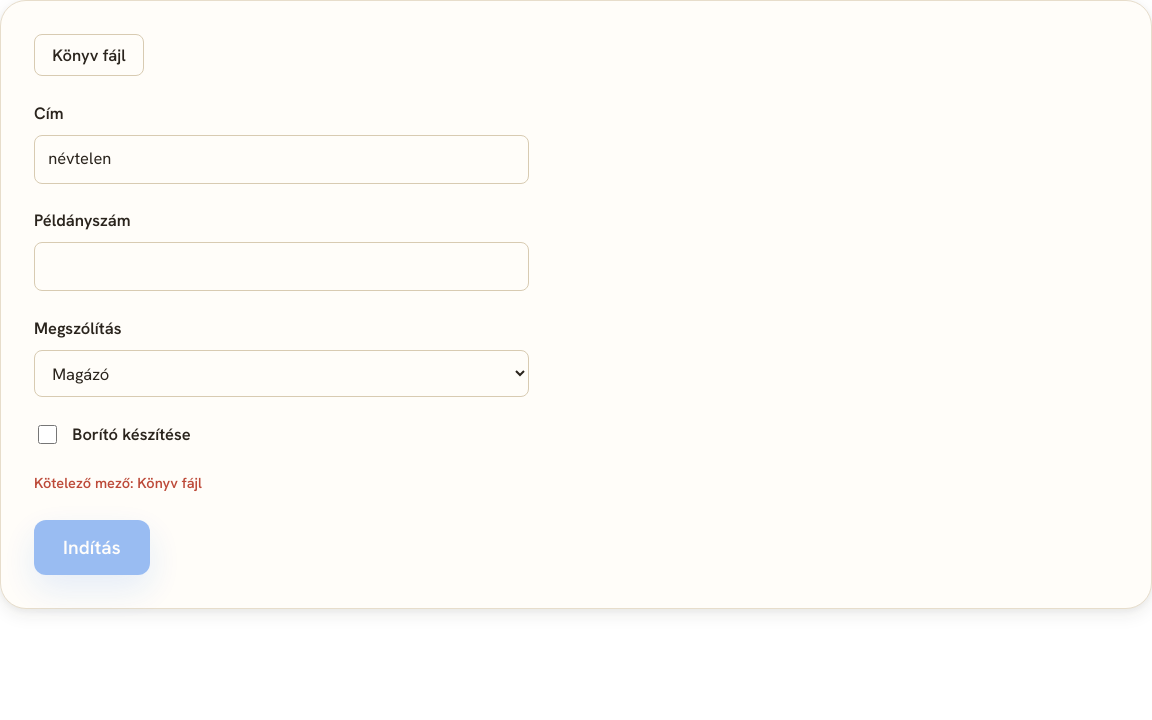
ParamForm (FR-1.3): the five field types from the manifest schema › the file picker fills the field via pickFile and enables submit
Click the button "Könyv fájl" at (89, 55), box [34,34,144,76]
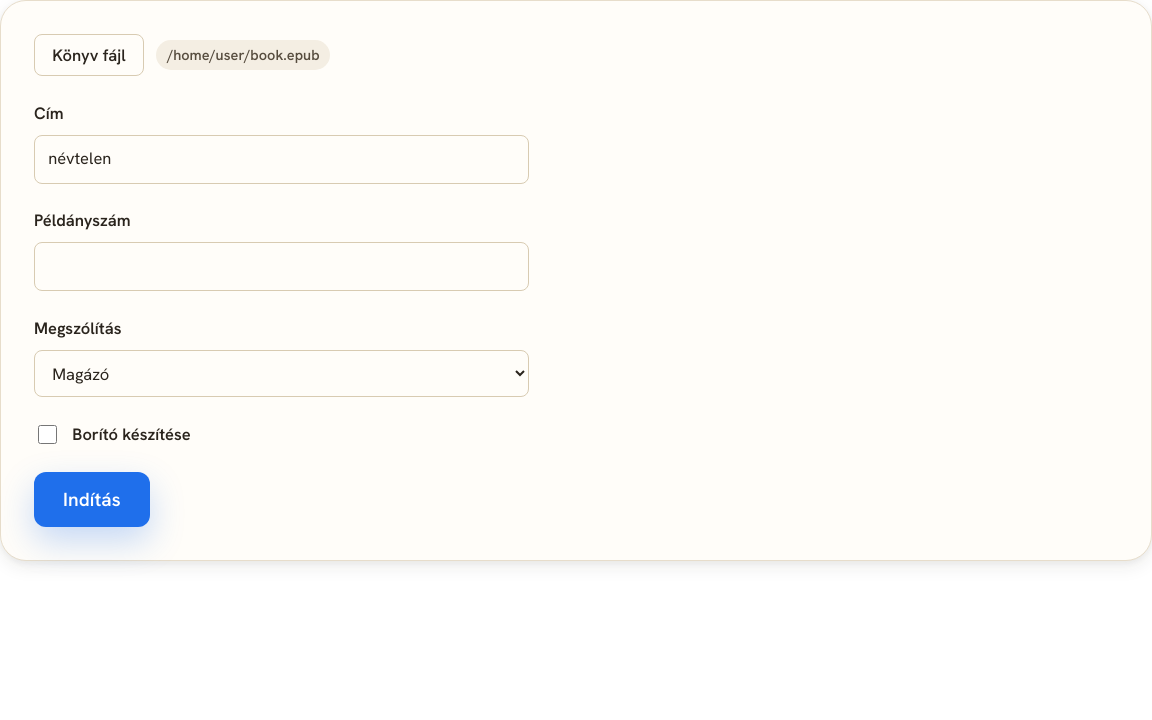
Now the text "/home/user/book.epub" is shown, box [156,40,330,70]
Now the button "Indítás" is enabled, box [34,472,150,527]
